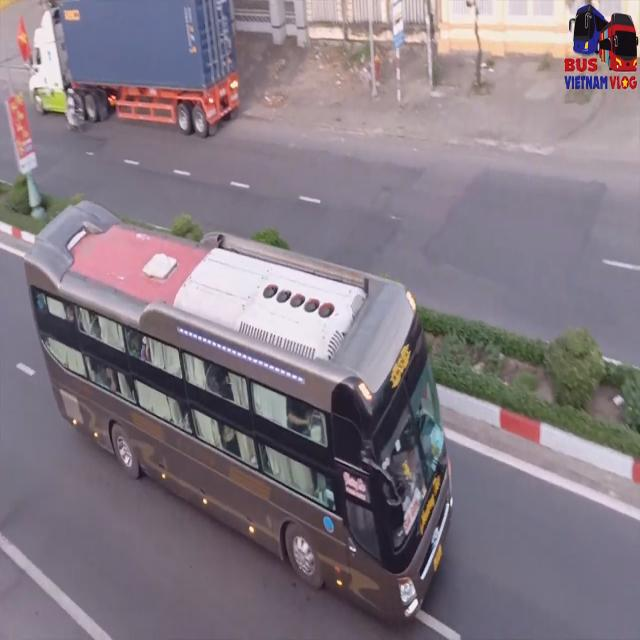bus: (31, 232, 453, 627)
truck: (30, 2, 244, 140)
